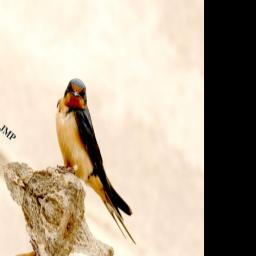Swallow: (34, 68, 168, 254)
